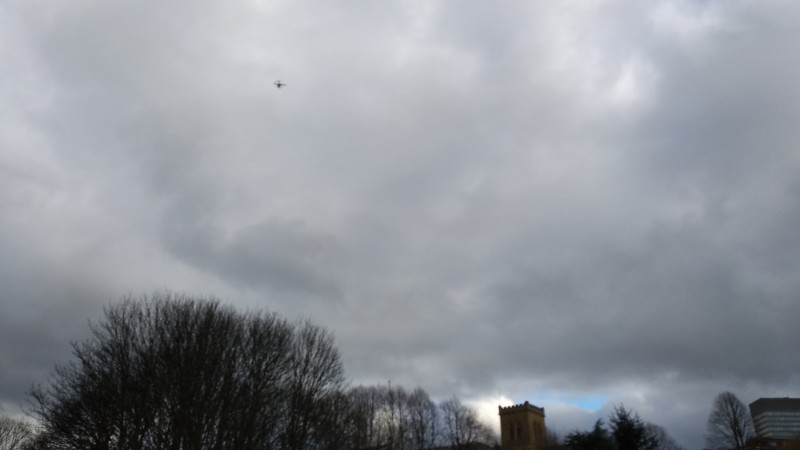drone: (274, 80, 285, 88)
